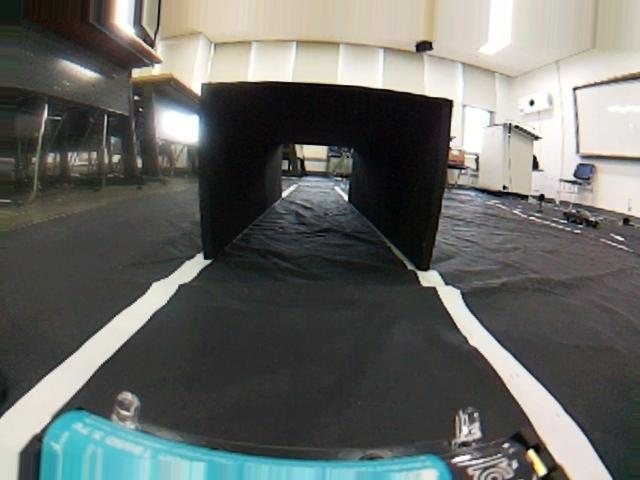straight: (11, 261, 640, 474)
